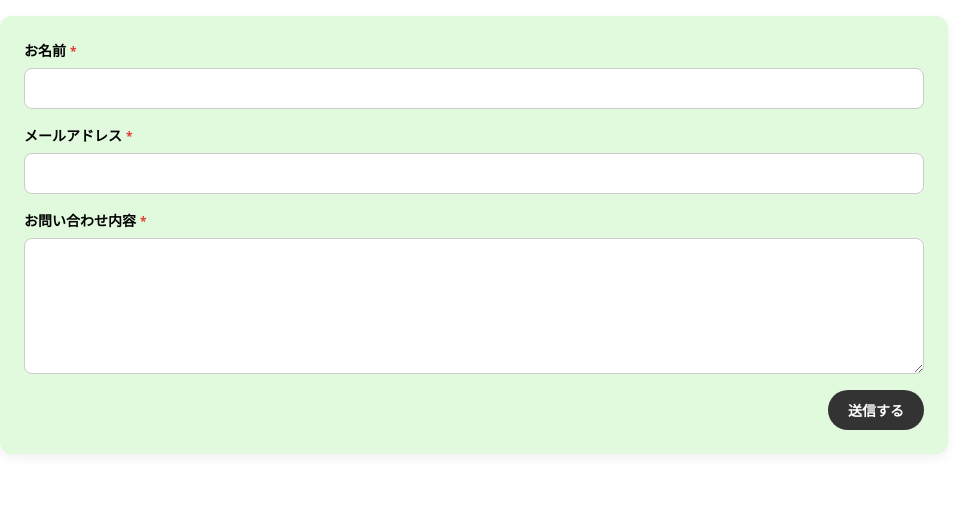
Scenario: ContactForm › API が失敗を返した場合、エラーメッセージを表示する
The image size is (965, 506).
In the field with id "name": (474, 88) x1=24 y1=68 x2=924 y2=109, type "テストユーザー"
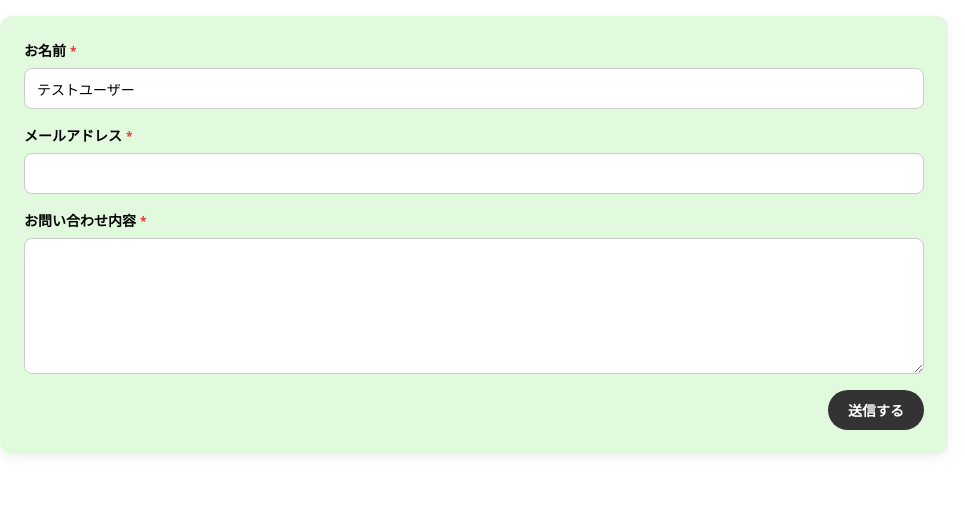
In the field with id "email": (474, 174) x1=24 y1=153 x2=924 y2=194, type "test@example.com"
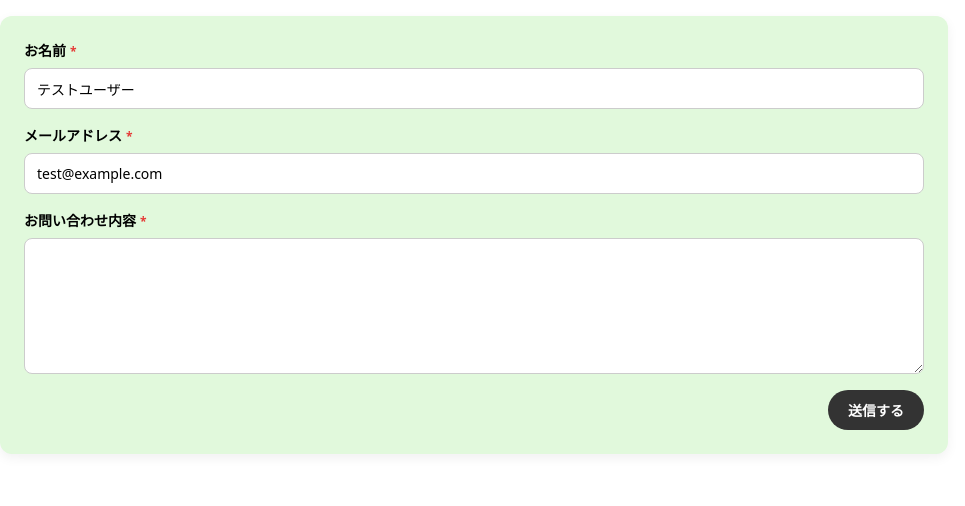
In the text box with id "message": (474, 306) x1=24 y1=238 x2=924 y2=374, type "お問い合わせ本文"
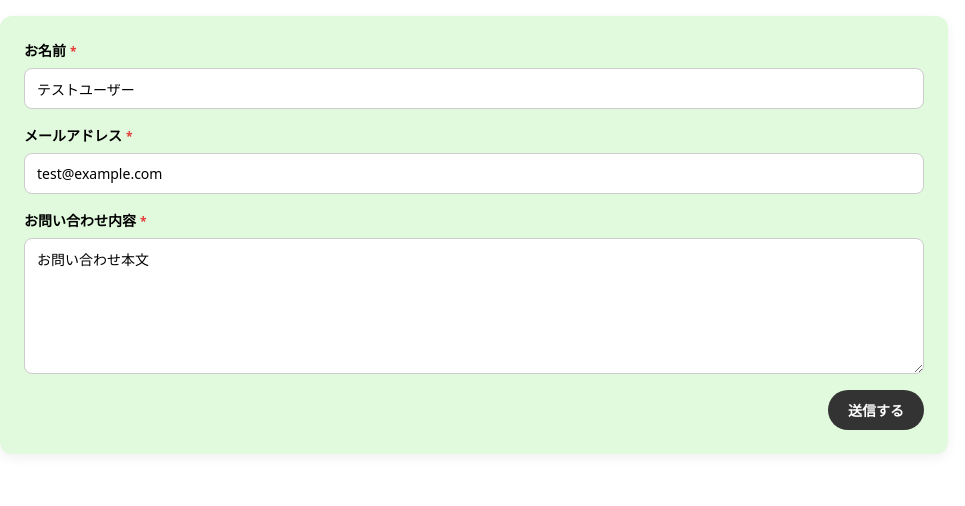
Submit the form
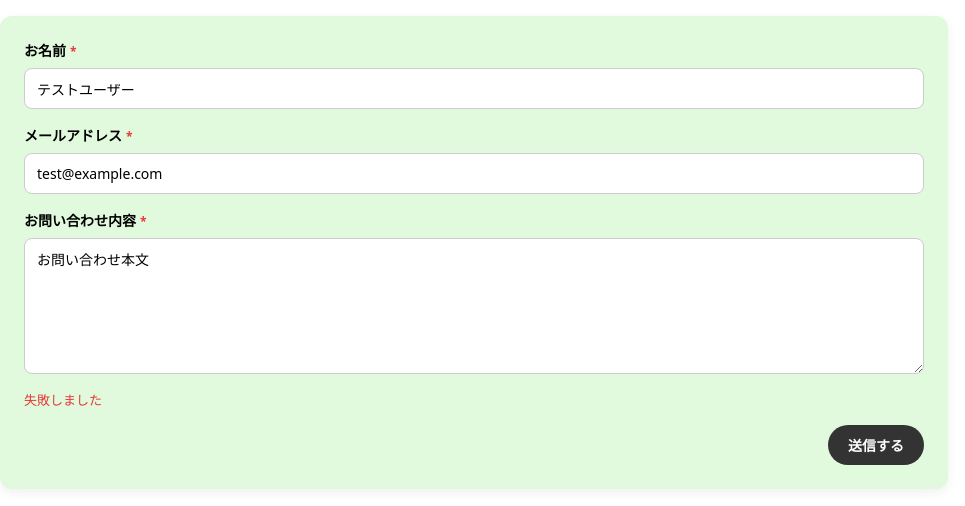
Result: the form shows "失敗しました" at x1=24 y1=391 x2=102 y2=409
